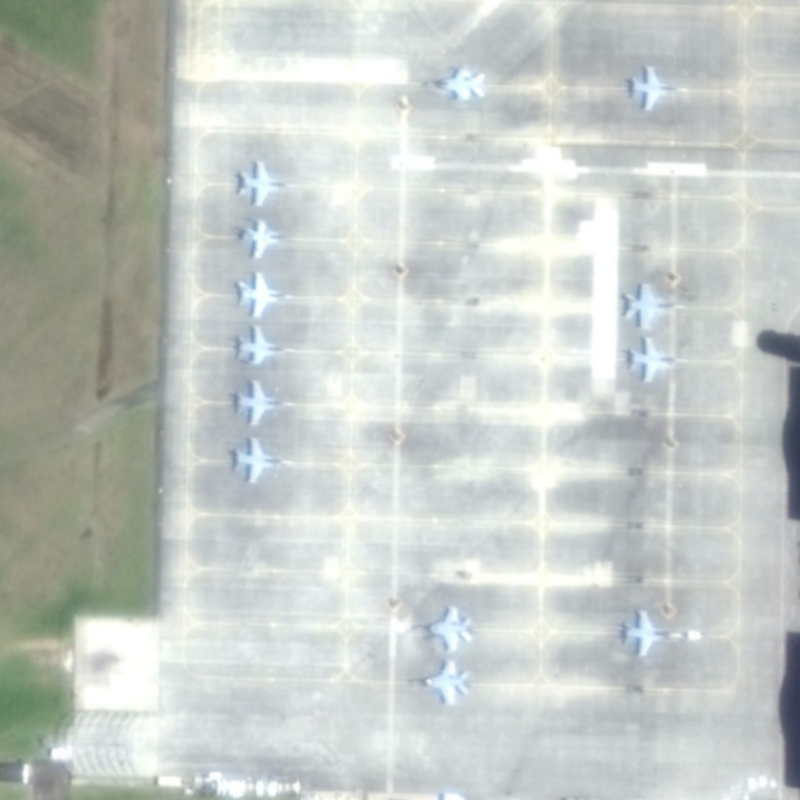A16: (610, 603, 690, 666), (400, 596, 479, 658), (393, 655, 477, 711), (228, 152, 303, 211), (621, 272, 692, 333), (226, 429, 298, 489), (226, 372, 298, 431), (232, 266, 303, 324), (621, 333, 693, 390), (412, 57, 494, 107), (621, 55, 689, 111), (232, 318, 300, 374), (236, 212, 301, 262)
